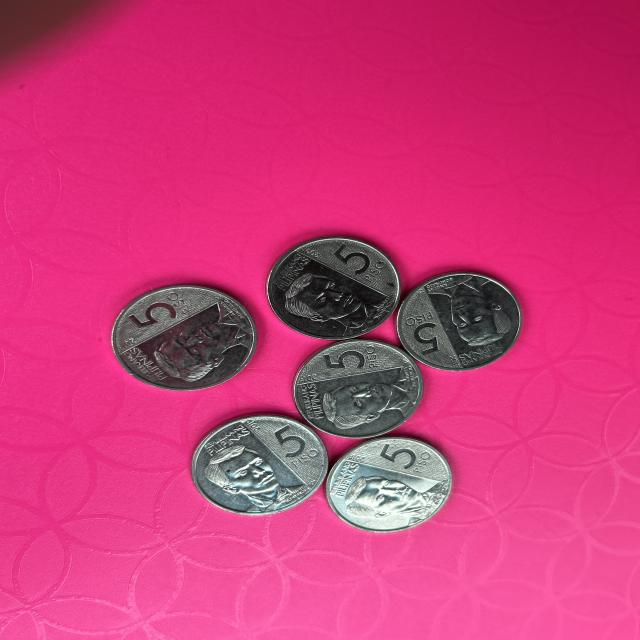5_New_Front: (354, 438, 450, 479), (398, 302, 462, 360), (123, 289, 197, 334), (315, 238, 376, 287), (259, 423, 319, 470), (323, 340, 389, 378)
